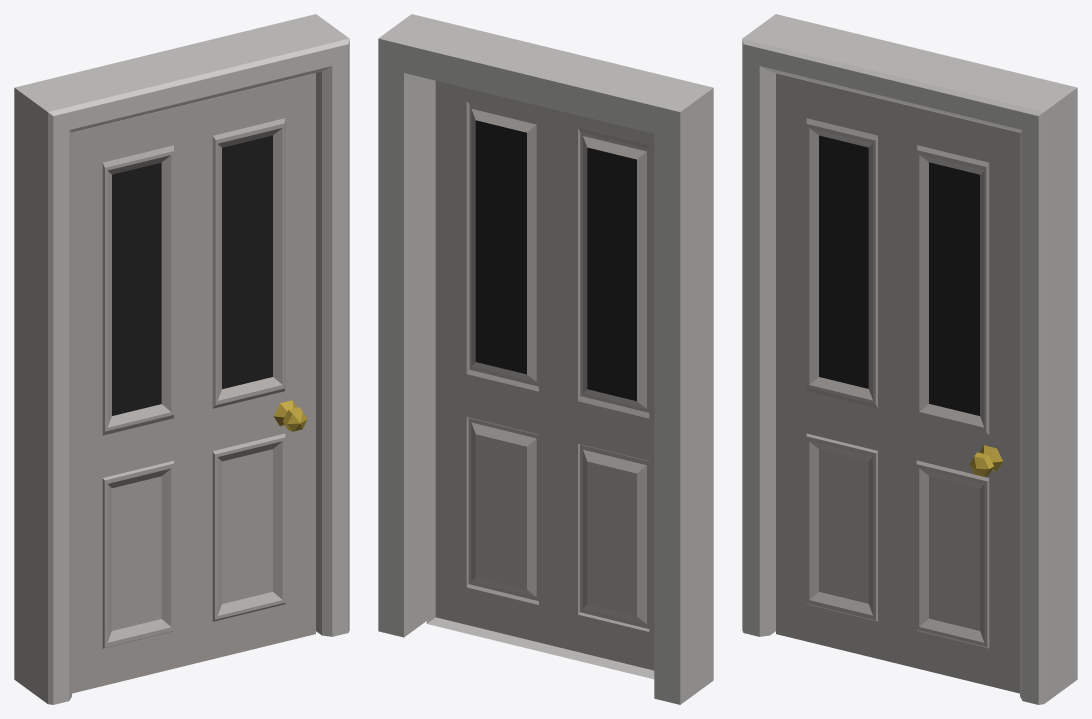
The model's file is SM_Bld_Mansion_Door_01.glb.
The picture shows the model from 3 angles, left to right: view 1: azimuth 30°, elevation 25°; view 2: azimuth 150°, elevation 25°; view 3: azimuth 330°, elevation 25°; orthographic projection.
Visible parts, largest first — view 1: SM_Bld_Mansion_Door_01_part00; view 2: SM_Bld_Mansion_Door_01_part00; view 3: SM_Bld_Mansion_Door_01_part00.
Part boxes in pixels (x1=…): SM_Bld_Mansion_Door_01_part00: x1=14, y1=14, x2=349, y2=704; SM_Bld_Mansion_Door_01_part00: x1=378, y1=14, x2=713, y2=704; SM_Bld_Mansion_Door_01_part00: x1=742, y1=14, x2=1077, y2=704.
Size of the model in its own units: 1.29 by 2.41 by 0.3167.
Materials: 1 (1 with a texture image).
